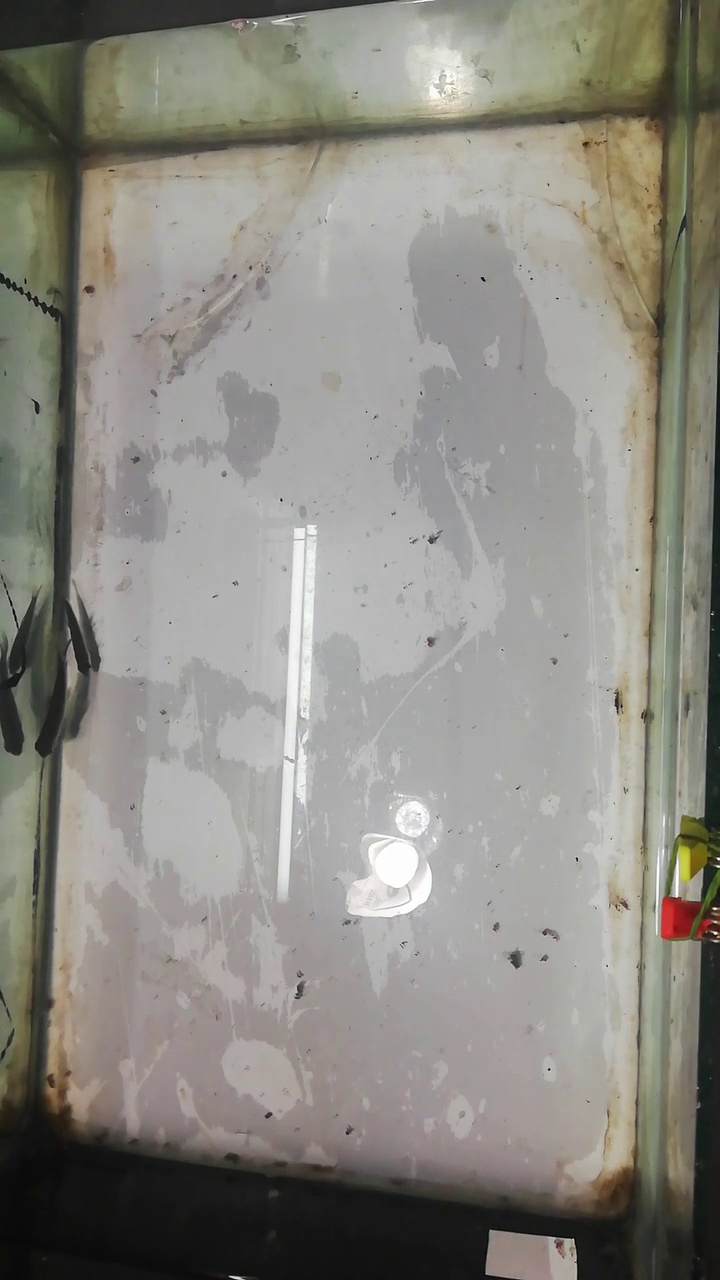fish1: (69, 660, 95, 745)
fish2: (70, 588, 103, 674)
